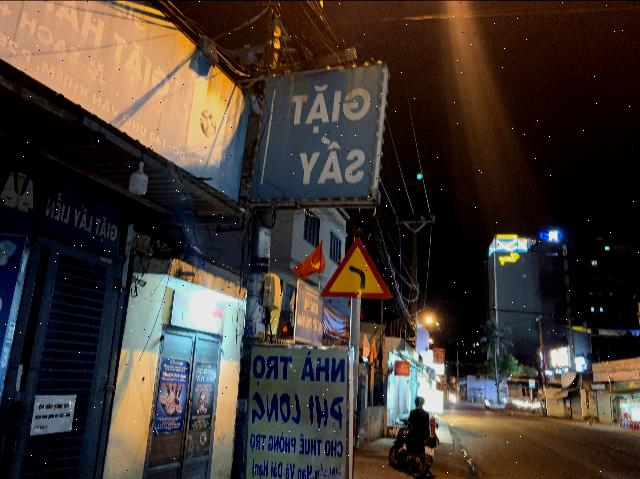cho-ngoat-nguy-hiem-ben-phai: (318, 236, 392, 300)
